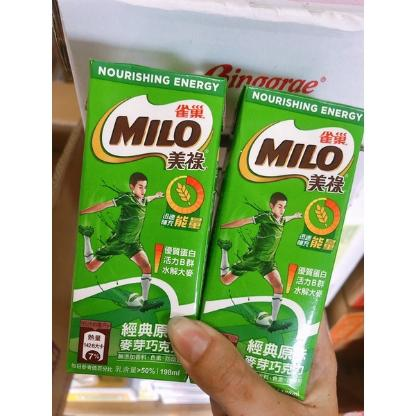Others: (67, 60, 226, 381), (201, 87, 363, 399)
